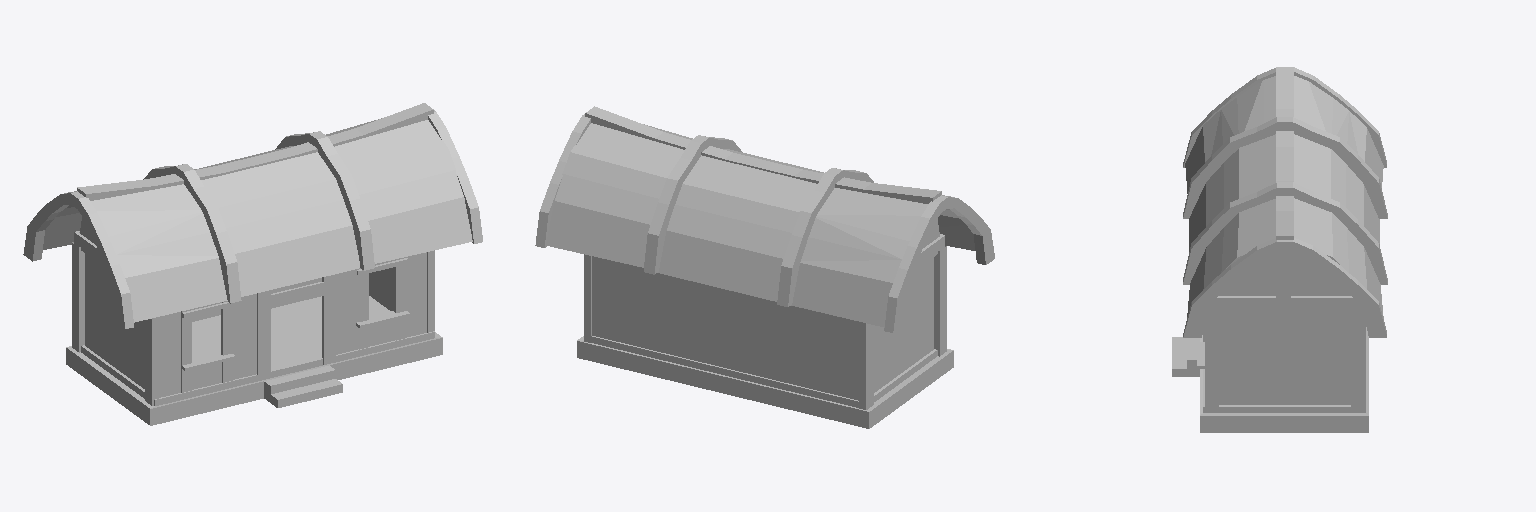
The model's file is house.obj.
The picture shows the model from 3 angles: view 1: azimuth 30°, elevation 25°; view 2: azimuth 150°, elevation 25°; view 3: azimuth 270°, elevation 25°; orthographic projection.
Visible parts, largest first — view 1: polySurface22; view 2: polySurface22; view 3: polySurface22.
Boxes of the visible parts, x1=… form: polySurface22: x1=23, y1=103, x2=482, y2=425; polySurface22: x1=535, y1=106, x2=994, y2=428; polySurface22: x1=1172, y1=67, x2=1387, y2=432.
Size of the model in its own units: 15.75 by 8.85 by 8.21.